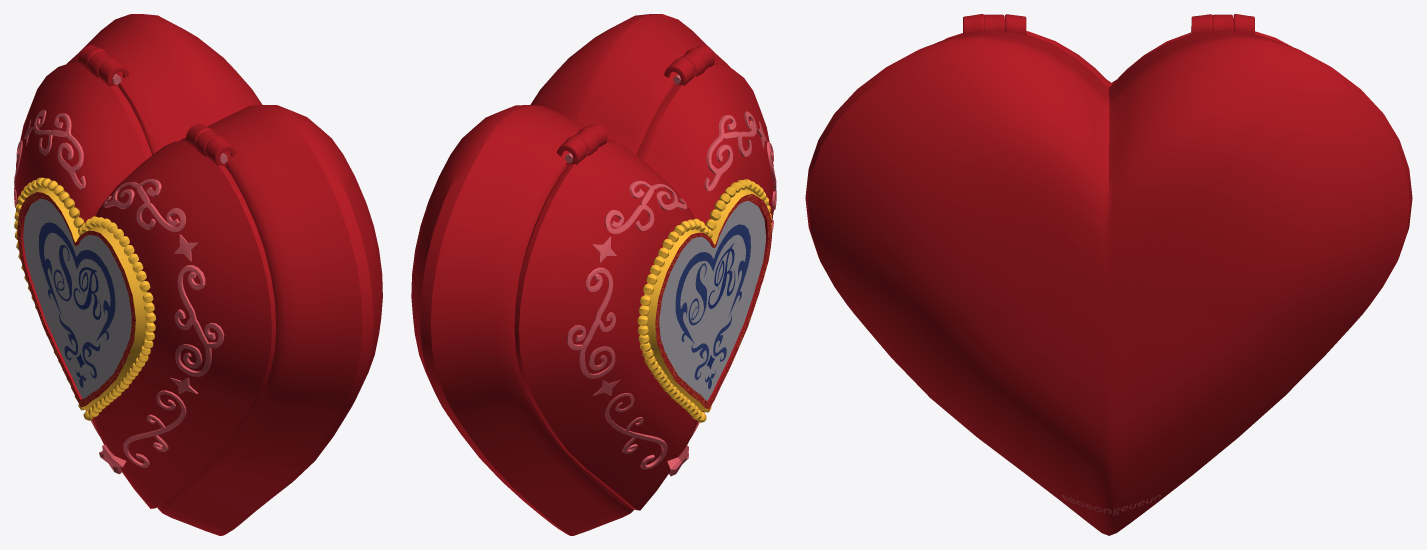
Rendered from heart_final.glb.
The picture shows the model from 3 angles, left to right: view 1: azimuth 30°, elevation 25°; view 2: azimuth 150°, elevation 25°; view 3: azimuth 270°, elevation 25°; orthographic projection. The views are drawn at different scales.
Visible parts, largest first — view 1: lid, body, glass, decor_glass; view 2: lid, body, glass, decor_glass; view 3: body, lid.
Boxes of the visible parts, left/top/right/bottom form: lid: left=14, top=51, right=276, bottom=508; body: left=67, top=14, right=382, bottom=535; glass: left=23, top=198, right=131, bottom=398; decor_glass: left=38, top=222, right=115, bottom=387; lid: left=514, top=51, right=776, bottom=510; body: left=411, top=14, right=730, bottom=535; glass: left=659, top=200, right=765, bottom=400; decor_glass: left=675, top=224, right=750, bottom=389; body: left=805, top=14, right=1412, bottom=535; lid: left=944, top=14, right=1292, bottom=87.
Bounding box in the file's own units: 1.66 × 3.31 × 3.66.
